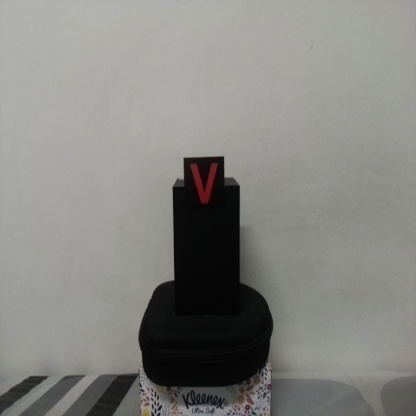id_11: (183, 157, 225, 212)
